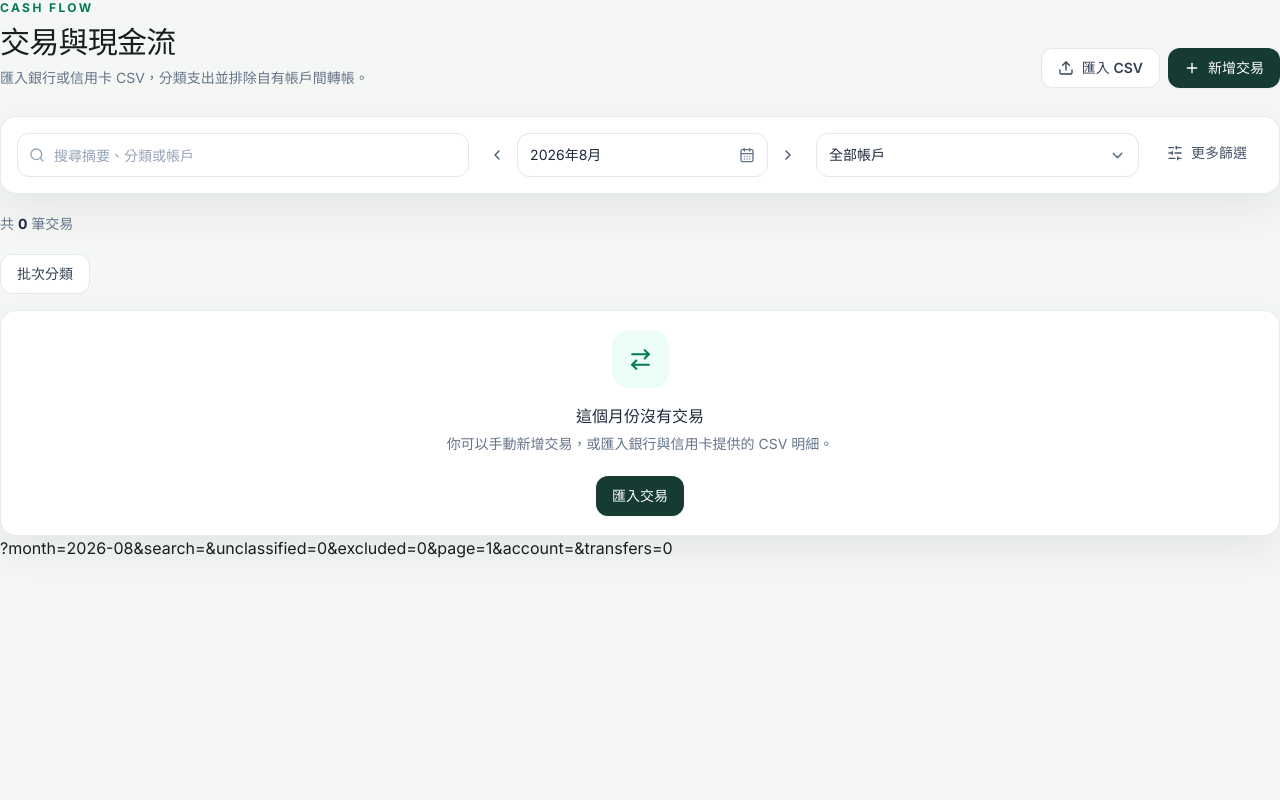
Test: keeps transaction type choices visible in the transfer dialog and switches back
(page scrolled)
expect the heading "這個月份沒有交易" is shown: met, box [576,404,704,428]
Click the button "新增交易": (1224,68) [1168,48,1279,88]
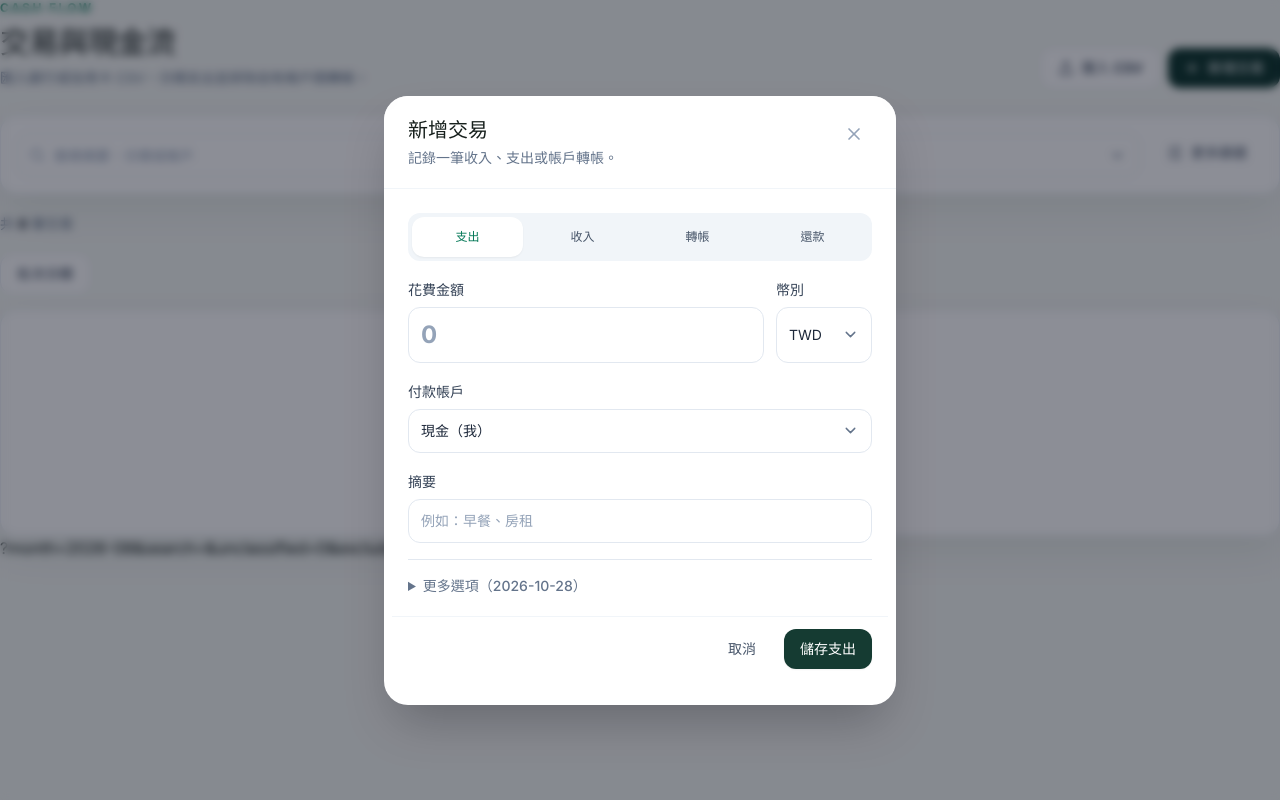
Click the button "轉帳": (698,236) [642,216,753,256]
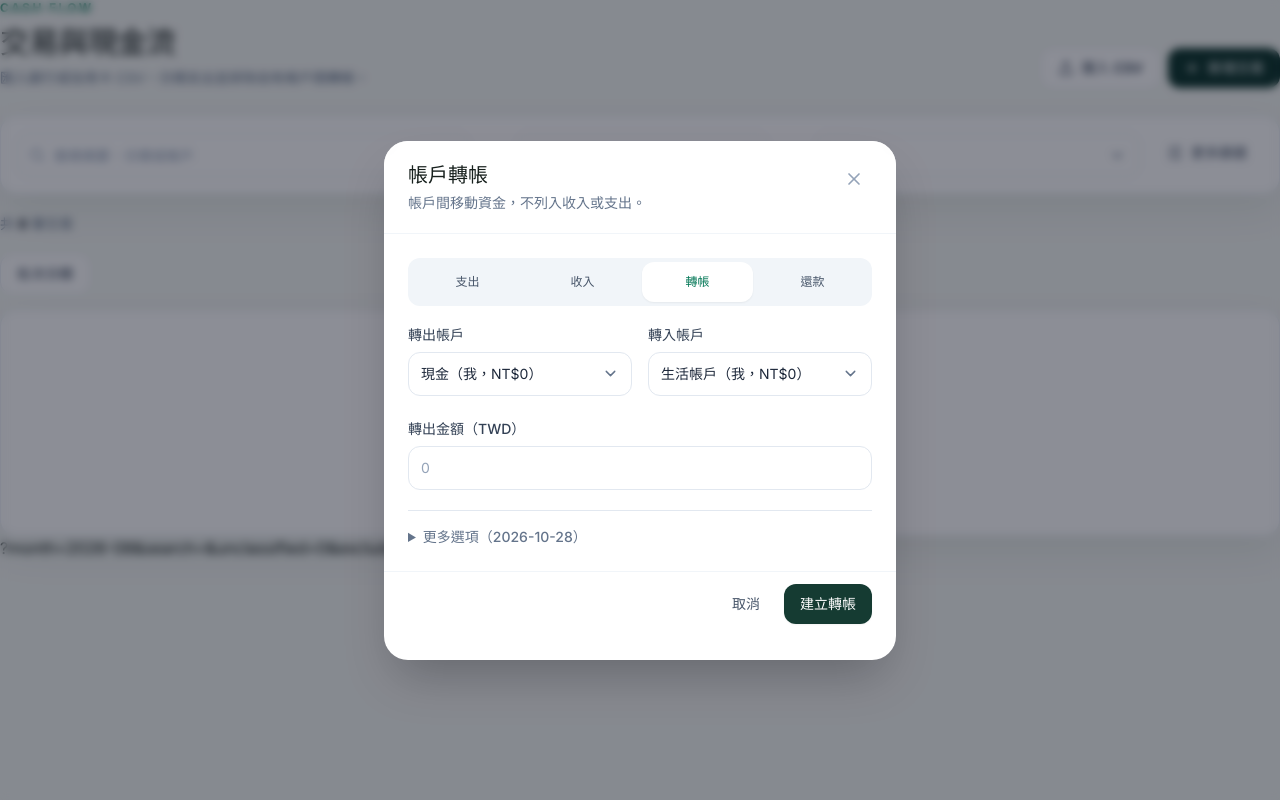
expect the buttons read "支出", "收入", "轉帳", "還款", in this order: met
Click the button "收入": (582,282) [527,262,638,302]
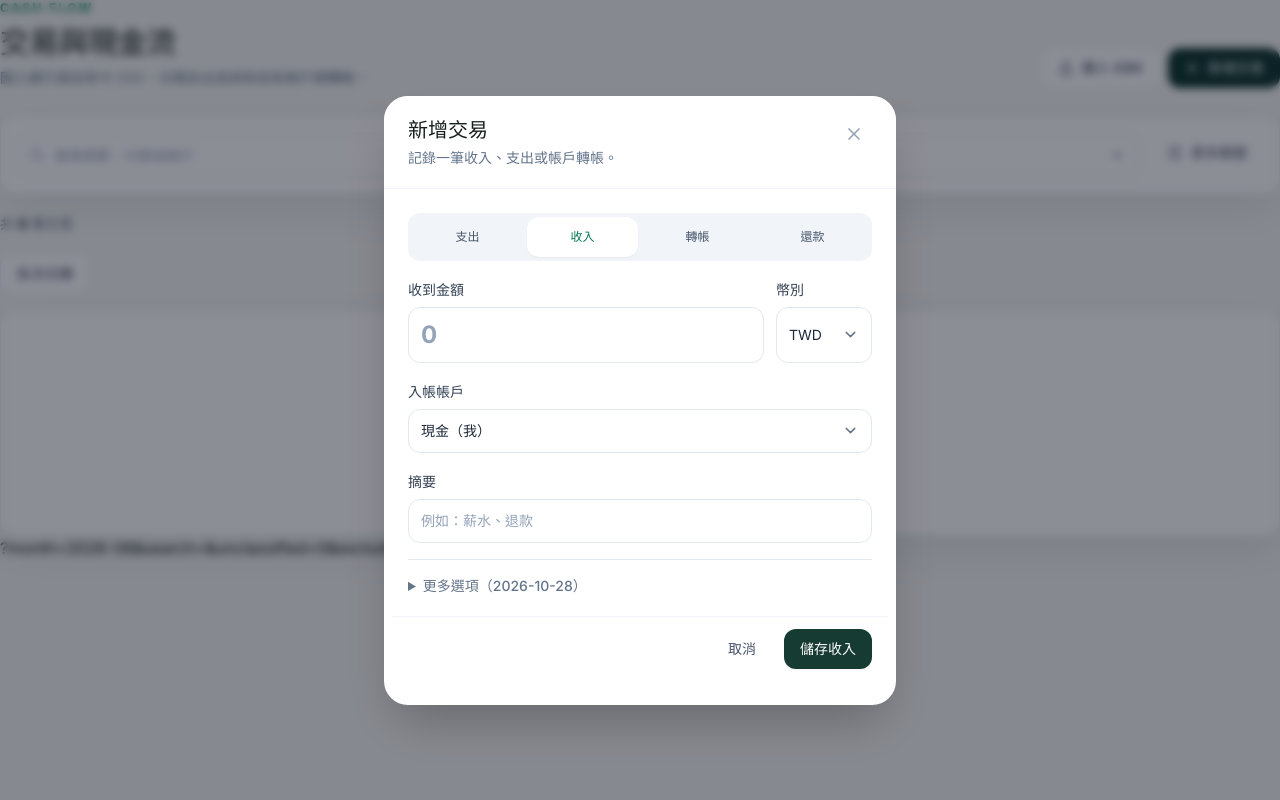
expect the number field labelled "收到金額" is shown: met, box [408,306,764,362]
expect the text "轉出帳戶" is gone: met
